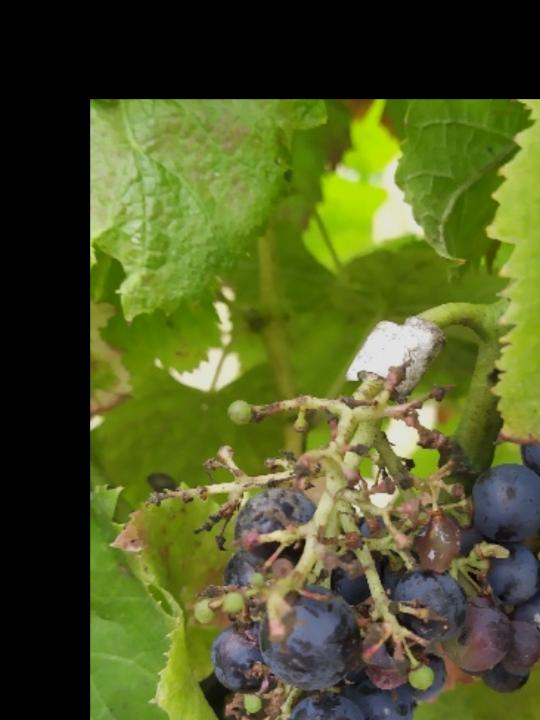grape: (146, 376, 540, 720)
